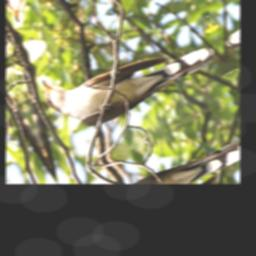Cuckoo: (37, 4, 223, 146)
